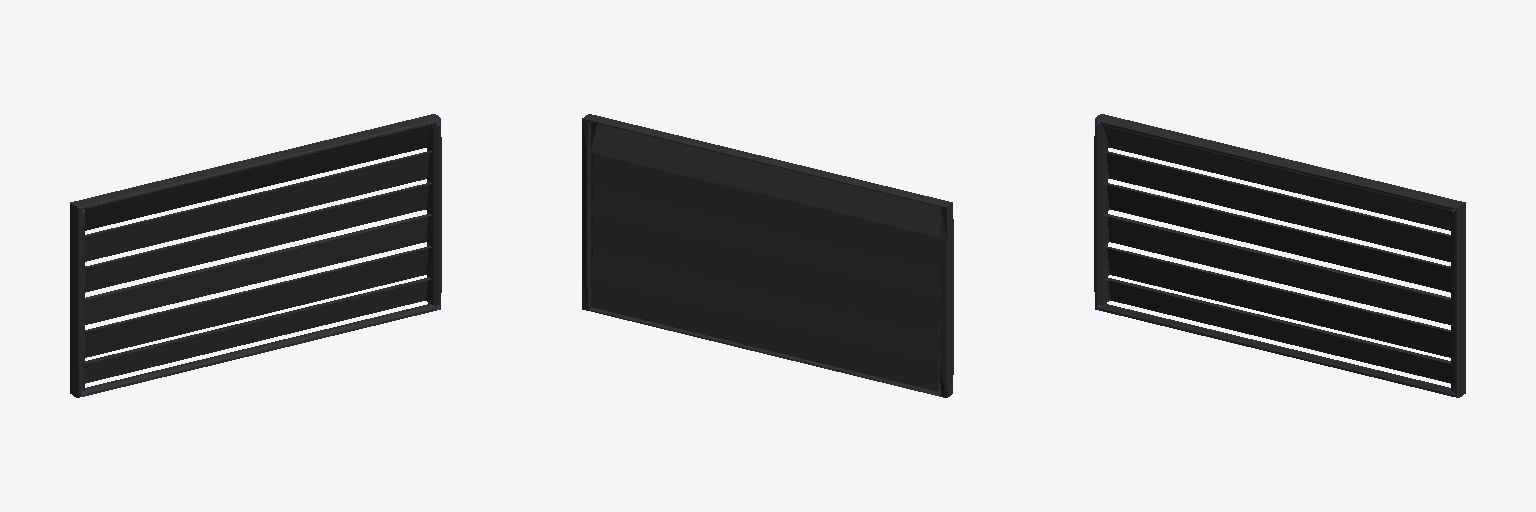
Rendered from Furniture_WallVentv1_CPG3.obj.
3 renders of one model, left to right at view 1: azimuth 30°, elevation 25°; view 2: azimuth 150°, elevation 25°; view 3: azimuth 330°, elevation 25°, orthographic.
Visible parts, largest first — view 1: Ventcover1; view 2: Ventcover1; view 3: Ventcover1.
Part boxes in pixels (x1,y1,x2,y2): Ventcover1: (70,114,441,397); Ventcover1: (582,114,953,397); Ventcover1: (1094,114,1465,397).
Size of the model in its own units: 22.1 by 11.05 by 1.03.